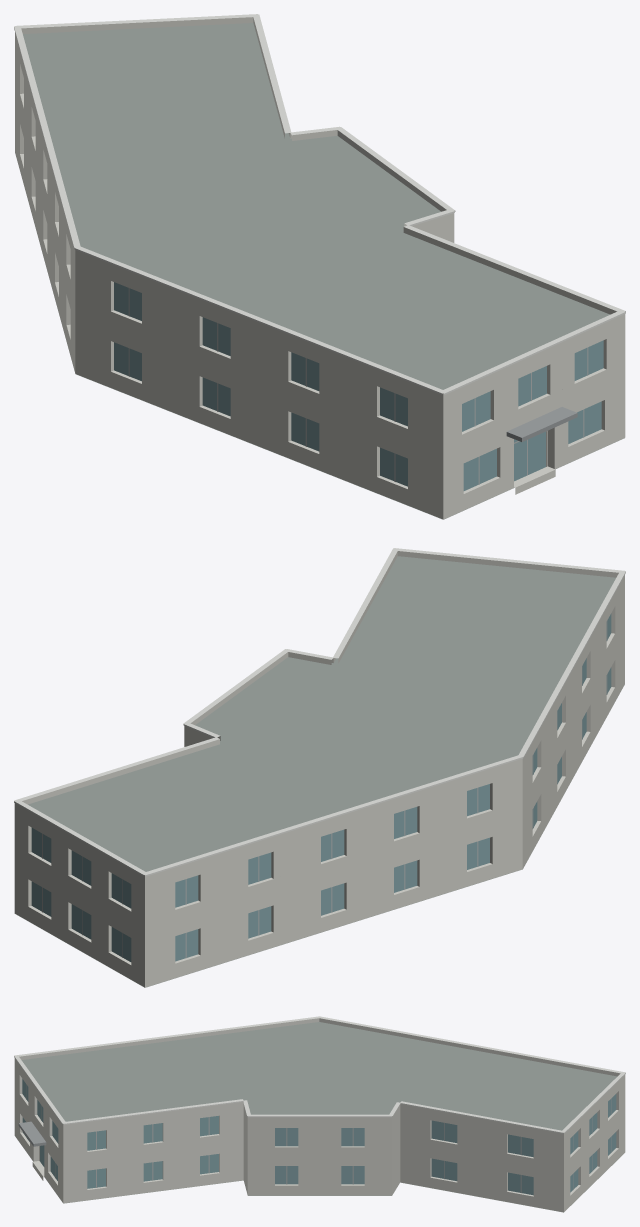
The picture shows the model from 3 angles, top to bottom: view 1: azimuth 30°, elevation 25°; view 2: azimuth 150°, elevation 25°; view 3: azimuth 270°, elevation 25°; orthographic projection. The views are drawn at different scales.
Visible parts, largest first — view 1: osm761589249__roof, osm761589249__wall, osm761589249__glass, osm761589249__trim, osm761589249__parapet, osm761589249__canopy, osm761589249__frame; view 2: osm761589249__roof, osm761589249__wall, osm761589249__glass, osm761589249__trim, osm761589249__parapet, osm761589249__frame; view 3: osm761589249__wall, osm761589249__roof, osm761589249__glass, osm761589249__parapet, osm761589249__trim, osm761589249__frame, osm761589249__canopy.
Part boxes in pixels (left/top/right/bottom): osm761589249__roof: left=23, top=23, right=624, bottom=519; osm761589249__wall: left=15, top=32, right=625, bottom=519; osm761589249__glass: left=114, top=282, right=603, bottom=490; osm761589249__trim: left=14, top=14, right=625, bottom=394; osm761589249__parapet: left=21, top=17, right=625, bottom=398; osm761589249__canopy: left=506, top=407, right=577, bottom=441; osm761589249__frame: left=128, top=288, right=588, bottom=484; osm761589249__roof: left=15, top=556, right=624, bottom=987; osm761589249__wall: left=14, top=577, right=624, bottom=987; osm761589249__glass: left=31, top=613, right=611, bottom=961; osm761589249__trim: left=14, top=548, right=625, bottom=876; osm761589249__parapet: left=14, top=551, right=624, bottom=879; osm761589249__frame: left=42, top=620, right=607, bottom=958; osm761589249__wall: left=14, top=1060, right=625, bottom=1212; osm761589249__roof: left=19, top=1022, right=619, bottom=1212; osm761589249__glass: left=22, top=1079, right=616, bottom=1195; osm761589249__parapet: left=14, top=1018, right=625, bottom=1136; osm761589249__trim: left=14, top=1016, right=625, bottom=1133; osm761589249__frame: left=26, top=1084, right=611, bottom=1193; osm761589249__canopy: left=18, top=1121, right=46, bottom=1146.
Bounding box in the file's own units: 23.64 × 7.95 × 52.48.
